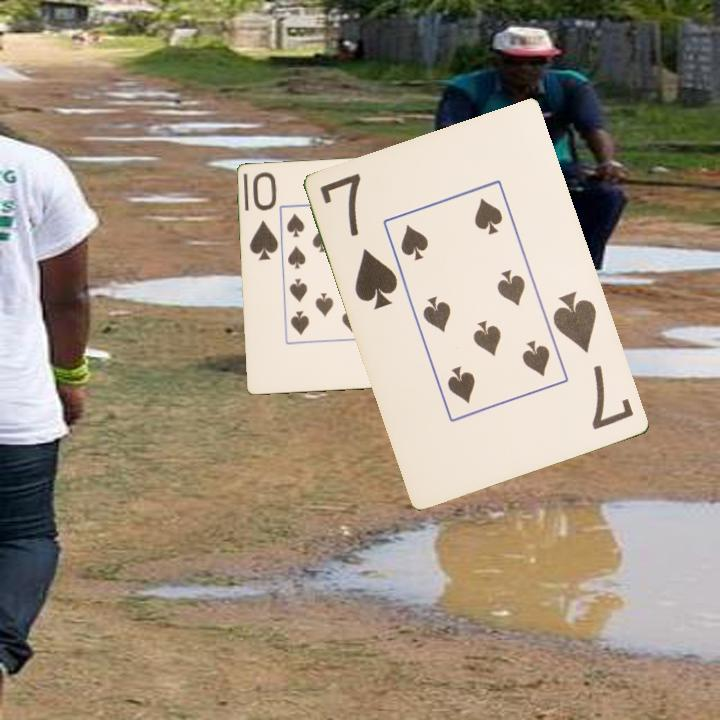10s: (246, 169, 281, 264)
7s: (549, 287, 637, 433), (316, 170, 401, 313)
